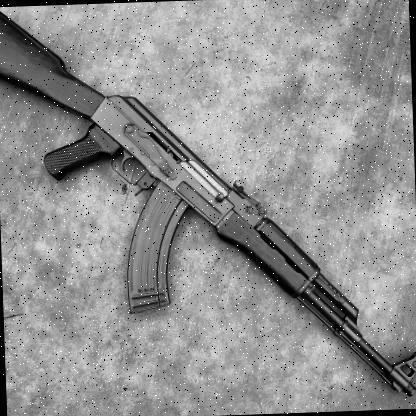rifle: (0, 0, 413, 405)
